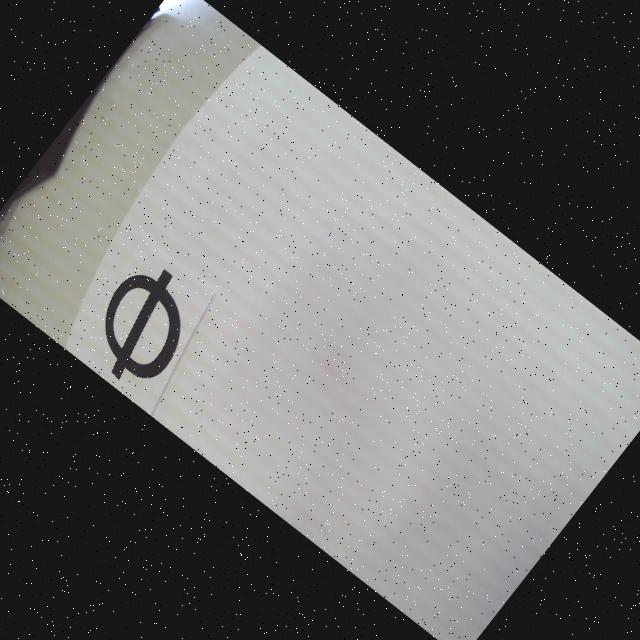PHI: (71, 252, 214, 400)
